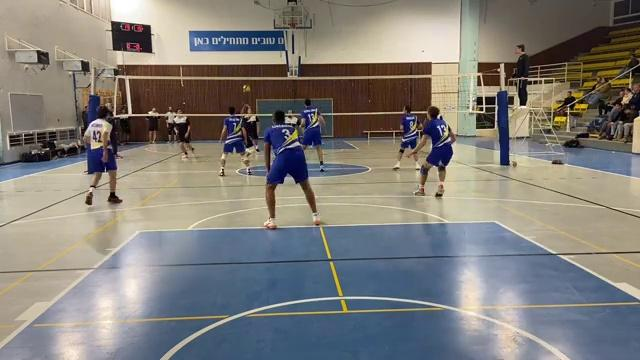ball: (242, 84, 253, 93)
